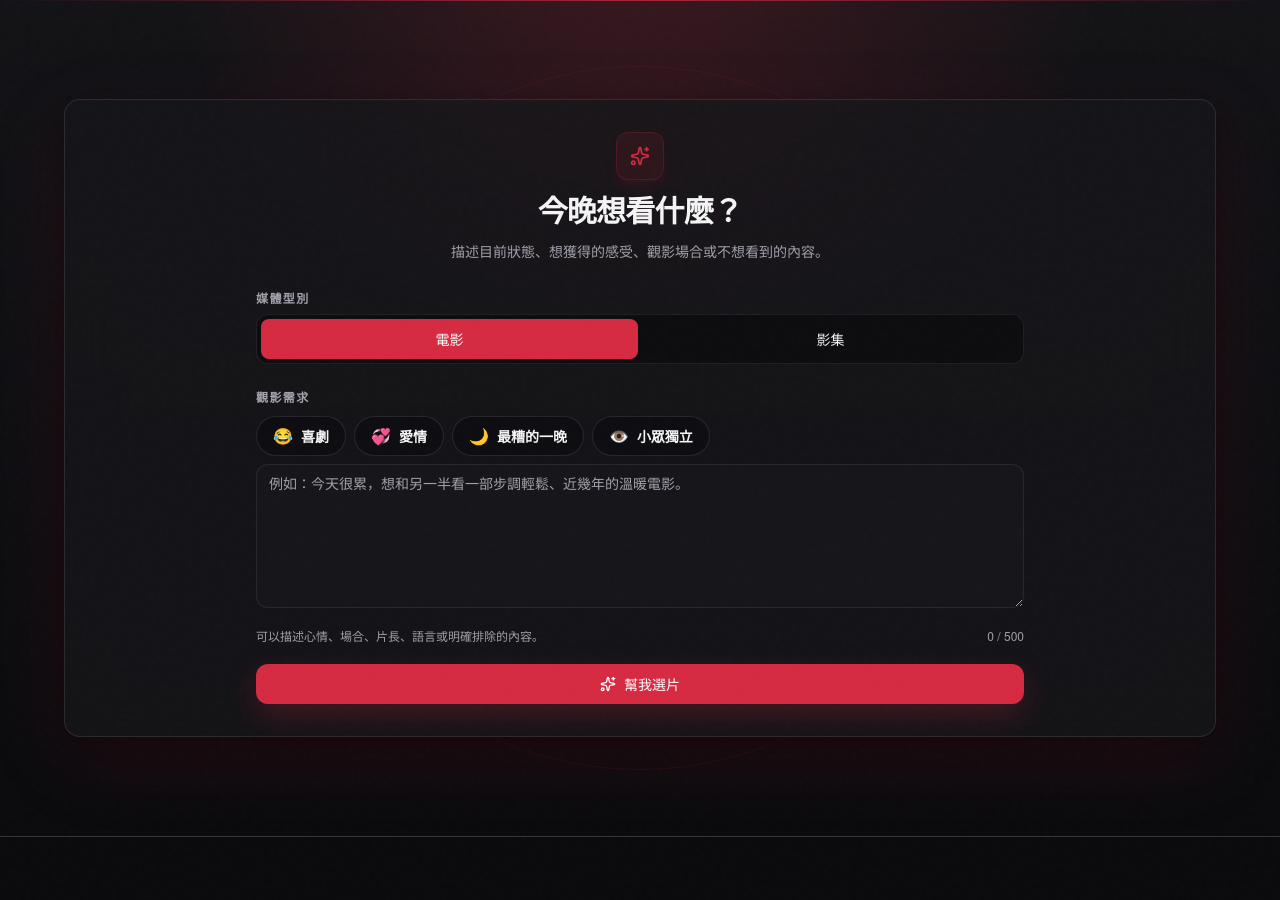
Test case: AiMoviePicker › shows legacy labels until the opted-in Edge Function is deployed
The image size is (1280, 900).
Type "想看輕鬆電影" into the text box labelled "觀影需求".
click(640, 536); type("想看輕鬆電影")  # box [256,464,1024,608]
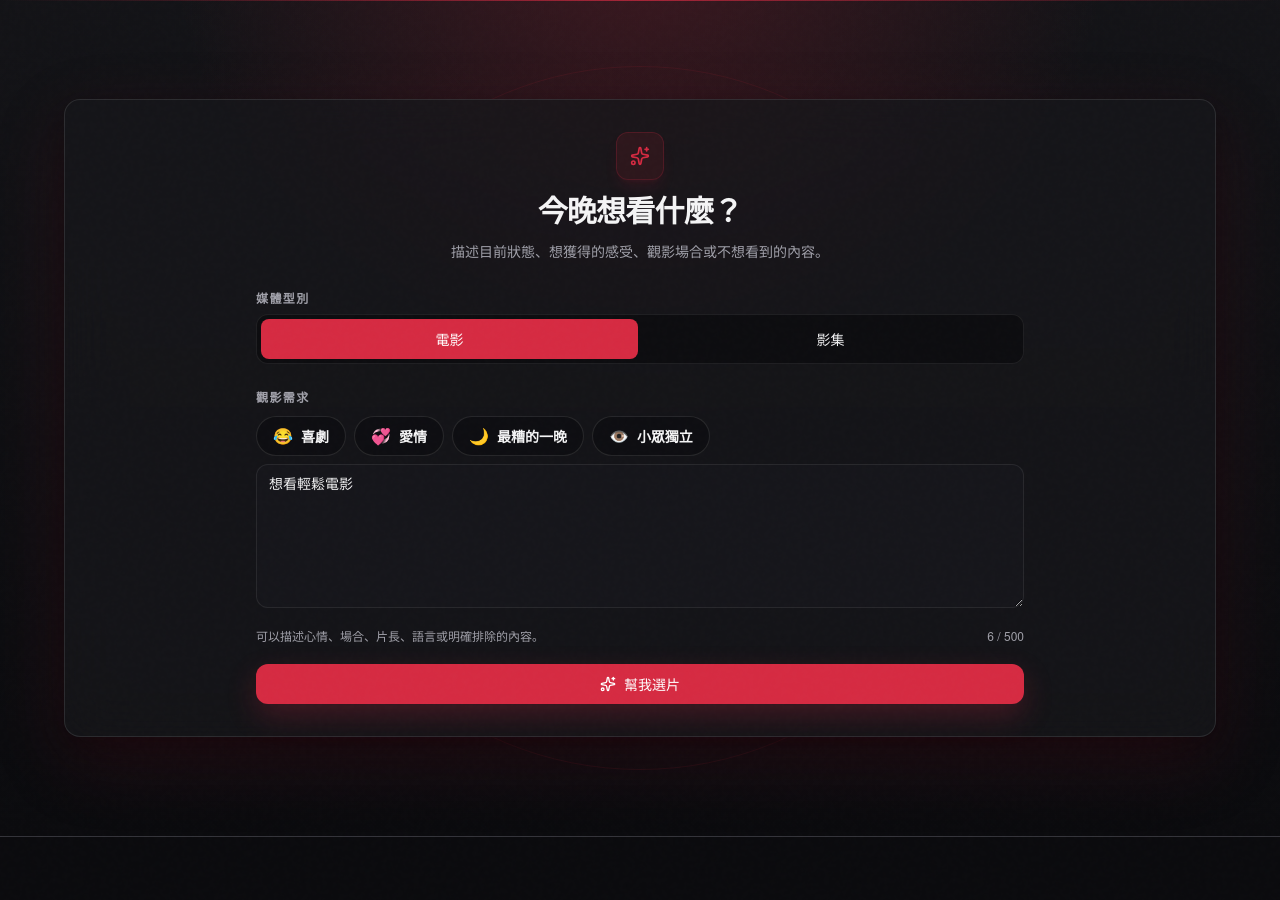
Click the button "幫我選片".
click(640, 684)  # box [256,664,1024,704]
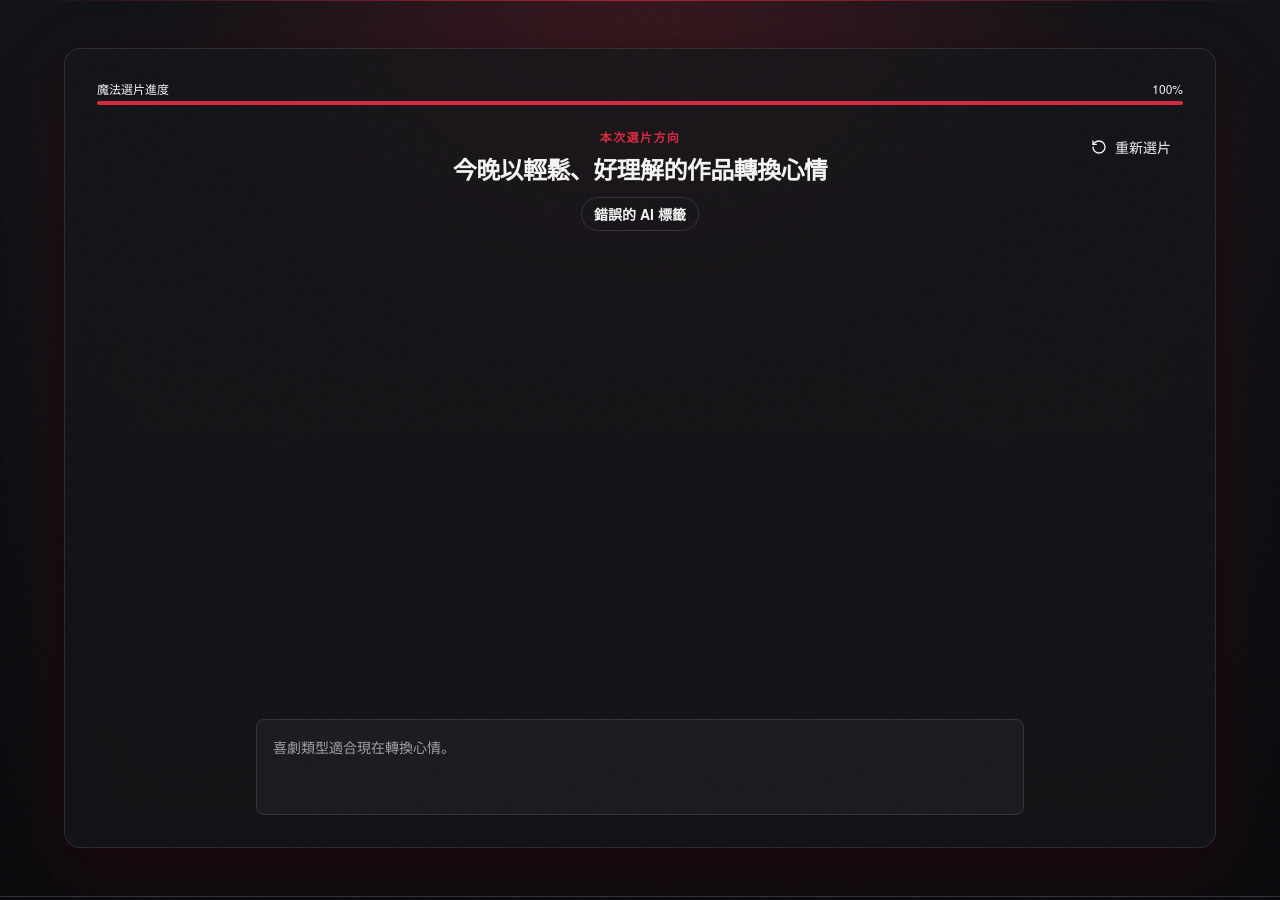
Check: the text "錯誤的 AI 標籤" is shown, box [581,197,699,231]
